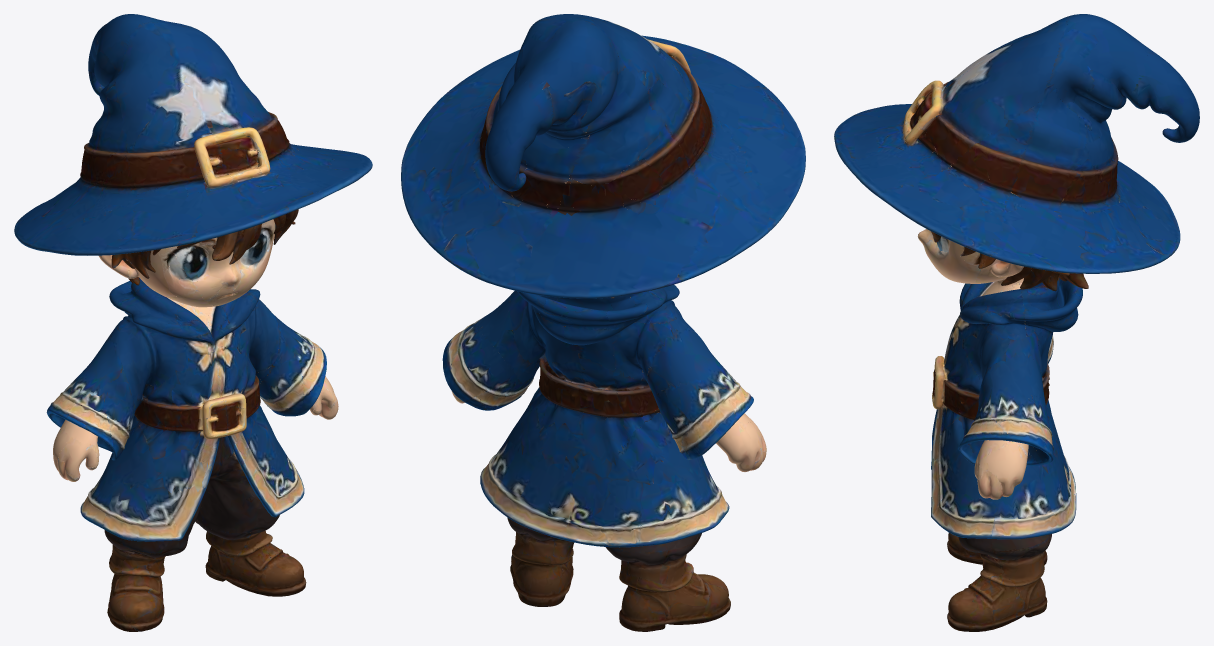
File: mago-colorato.glb
3 views of the same model, side by side, from view 1: azimuth 30°, elevation 25°; view 2: azimuth 150°, elevation 25°; view 3: azimuth 270°, elevation 25° (orthographic). The views are drawn at different scales.
Bounding box in the file's own units: 1.15 × 1.9 × 1.12.
1 material, 1 textured.
